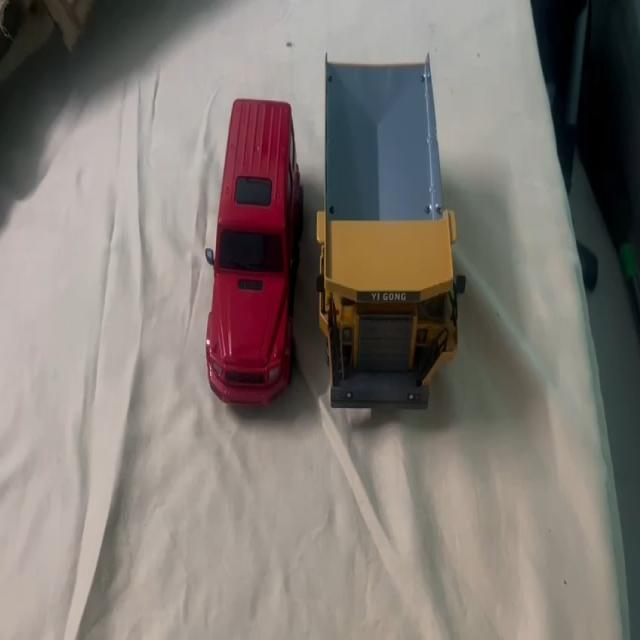dump_truck: (317, 54, 456, 419)
light_vehicle: (203, 94, 298, 401)
